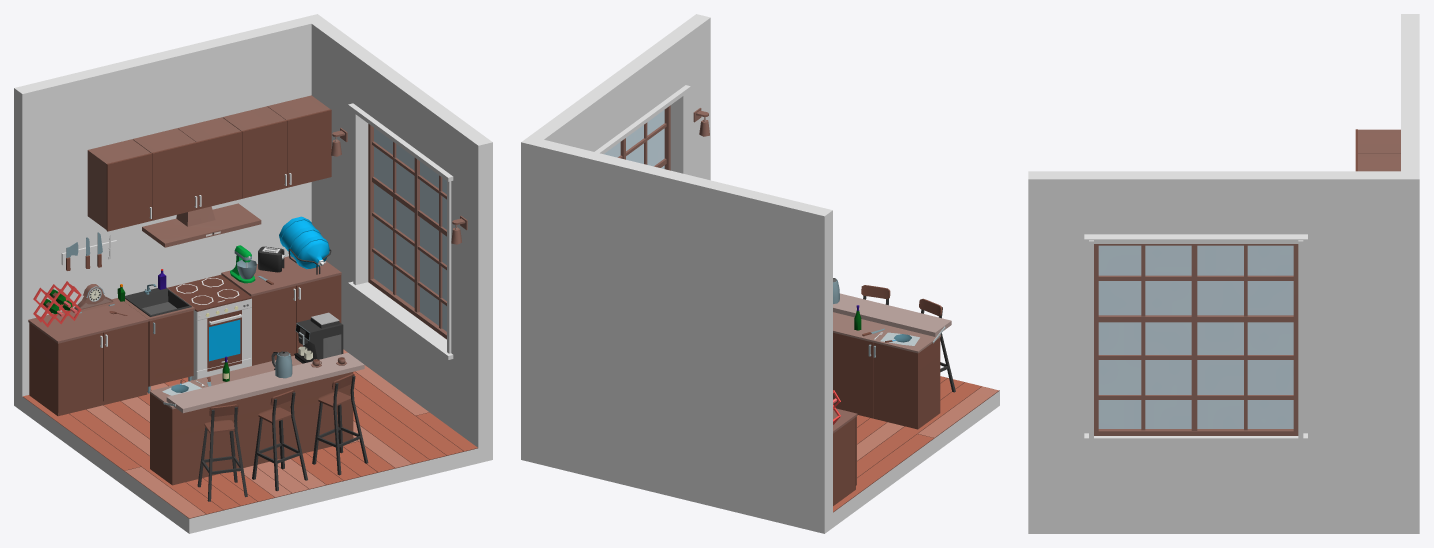
Rendered from room_17.glb.
3 renders of one model, left to right at view 1: azimuth 30°, elevation 25°; view 2: azimuth 150°, elevation 25°; view 3: azimuth 270°, elevation 25°, orthographic. The views are drawn at different scales.
Visible parts, largest first — view 1: Walls_006.036, floor_006.001, kitchen_table_020.001, Walls_006.038, window_033.001, kitchen_item_063.002, Walls_006.037, Walls_056.004, kitchen_item_063.001, Walls_006.040, Walls_006.039, kitchen_item_028.002 (+20 smaller); view 2: Walls_006.036, kitchen_table_020.001, Walls_006.037, Walls_006.039, floor_006.001, Walls_006.038, Walls_056.004, window_033.001, kitchen_item_063.002, Walls_005.372, Walls_005.371, kitchen_chair_001.001; view 3: Walls_006.037, window_033.001, Walls_006.038, Walls_006.040, Walls_006.039, Walls_006.036, Walls_005.371, Walls_005.356, Walls_005.363, kitchen_item_061.005, Walls_005.372, kitchen_item_061.004.
Boxes of the visible parts, x1,y1,x2,y2 form: Walls_006.036: (14,17,311,411); floor_006.001: (23,349,477,518); kitchen_table_020.001: (149,352,364,485); Walls_006.038: (449,121,492,463); window_033.001: (368,124,446,339); kitchen_item_063.002: (28,298,148,416); Walls_006.037: (303,14,371,358); Walls_056.004: (22,371,478,533); kitchen_item_063.001: (221,256,341,365); Walls_006.040: (357,294,449,426); Walls_006.039: (357,53,463,173); kitchen_item_028.002: (167,274,252,380); Walls_006.036: (535,140,832,533); kitchen_table_020.001: (833,293,951,429); Walls_006.037: (521,102,589,463); Walls_006.039: (575,35,681,151); floor_006.001: (833,376,998,511); Walls_006.038: (667,14,710,180); Walls_056.004: (833,378,999,527); window_033.001: (604,105,670,170); kitchen_item_063.002: (833,408,857,505); Walls_005.372: (670,94,685,173); Walls_005.371: (594,85,690,153); kitchen_chair_001.001: (919,298,955,392); Walls_006.037: (1298,171,1419,533); window_033.001: (1094,244,1298,435); Walls_006.038: (1028,171,1093,533); Walls_006.040: (1093,443,1298,533); Walls_006.039: (1093,171,1298,234); Walls_006.036: (1401,14,1419,171); Walls_005.371: (1084,234,1307,243); Walls_005.356: (1084,433,1307,442); Walls_005.363: (1298,240,1303,441); kitchen_item_061.005: (1355,129,1400,153); Walls_005.372: (1089,240,1093,441); kitchen_item_061.004: (1355,153,1400,171).
Size of the model in its own units: 4.36 by 4.2 by 4.2.
1 material, 1 textured.
